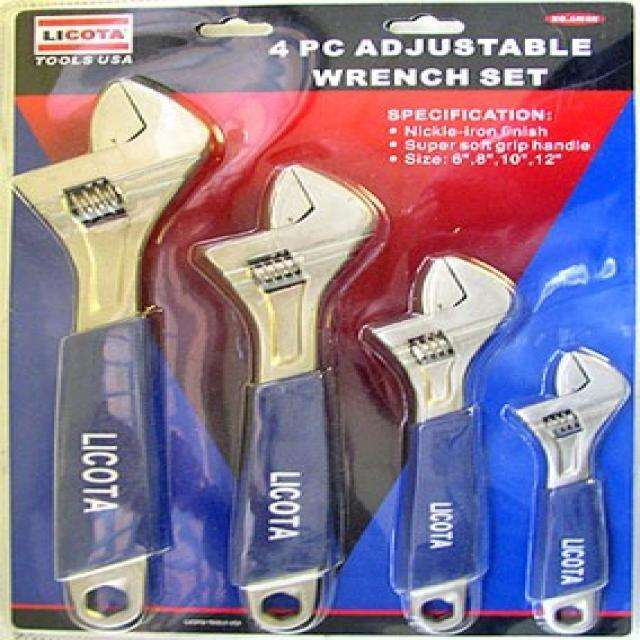wrench: (0, 70, 224, 632), (186, 157, 387, 635), (362, 249, 526, 638), (500, 346, 640, 637)
